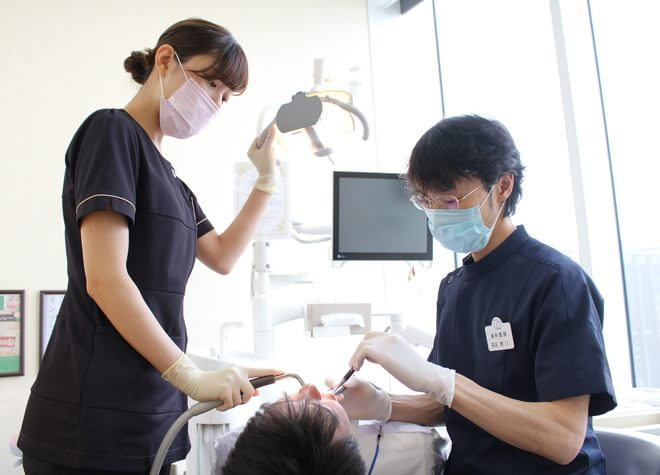mask: (424, 203, 494, 256), (158, 80, 221, 136)
